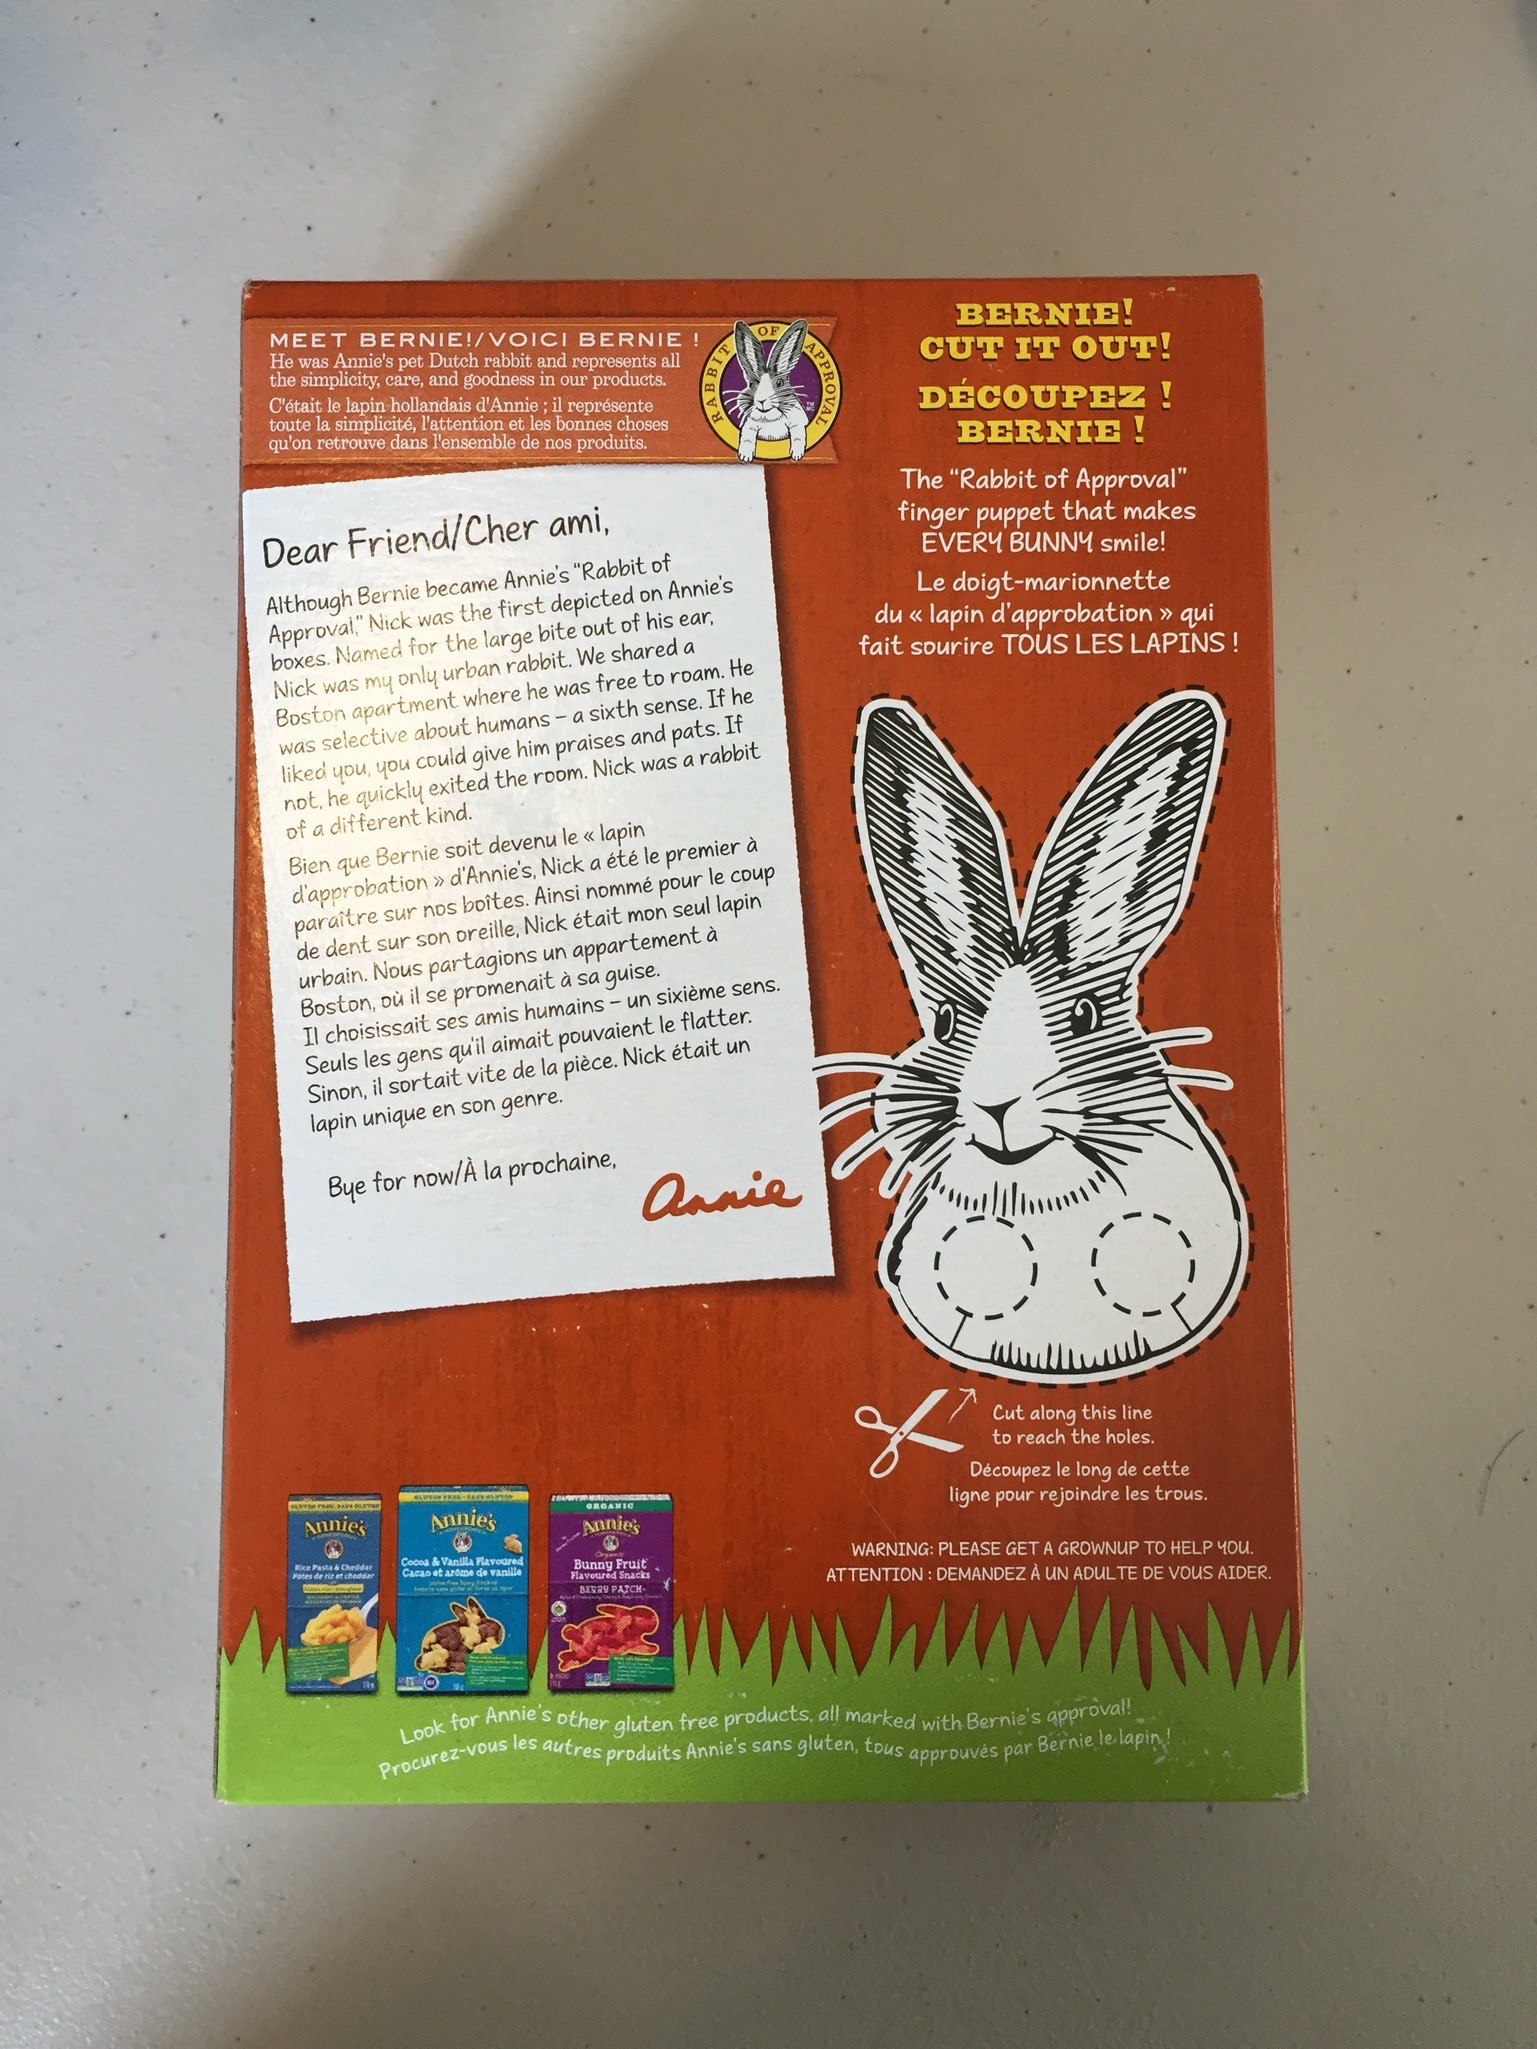annies_snickerdoodle_cinnamon_sugar: (257, 287, 1285, 1783)
